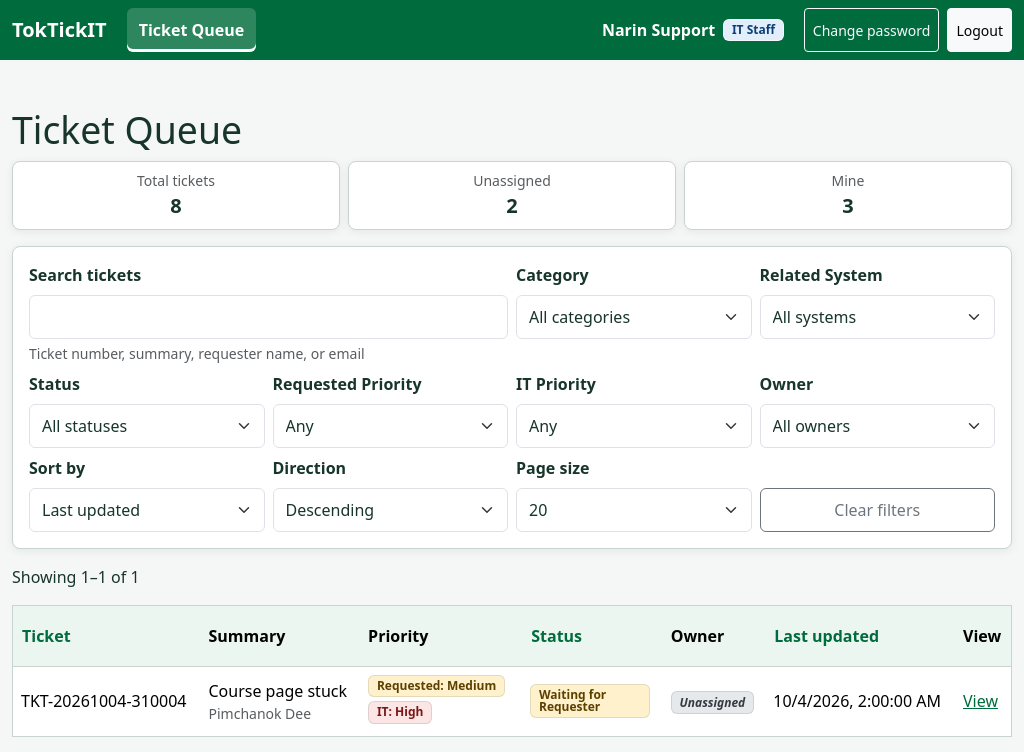
Test case: UI-05 Staff Ticket Queue › opens the Ticket Detail route from the View link
Expected: the table is shown, 12,605 -> 1012,736
Click the link with aria-label "View TKT-20261004-310004".
click(980, 701)  # box 963,690 -> 998,712
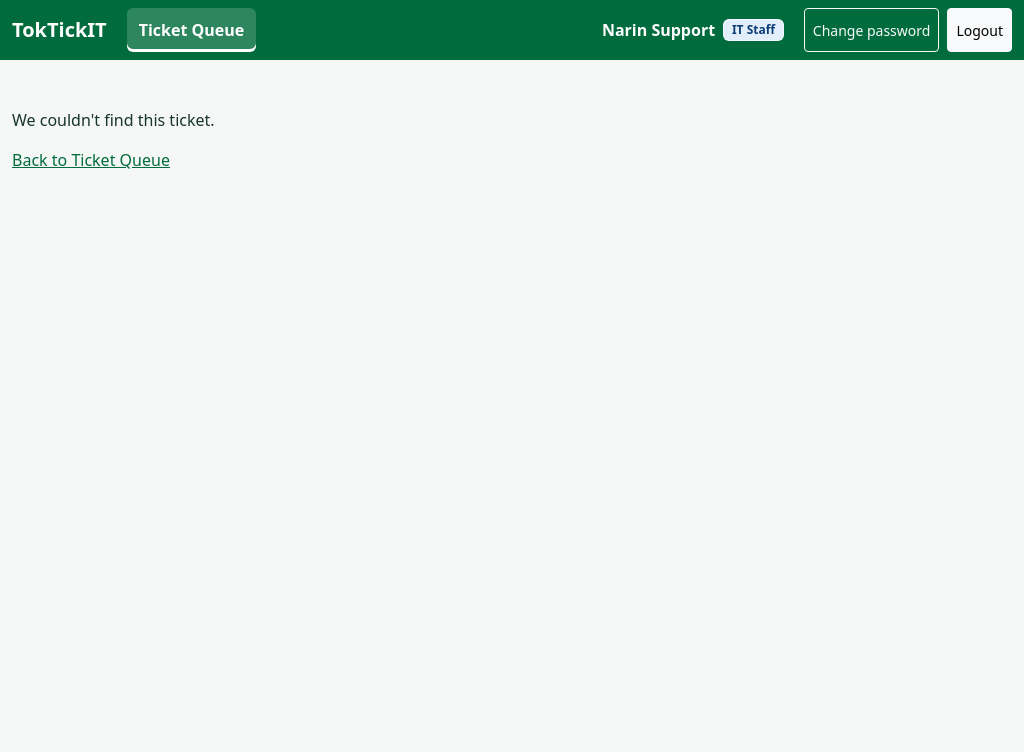
Expected: the text "We couldn't find this ticket." is shown, 12,109 -> 215,131
